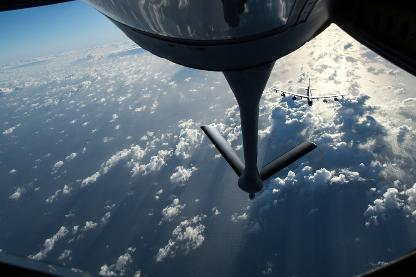B2: (270, 77, 348, 106)
